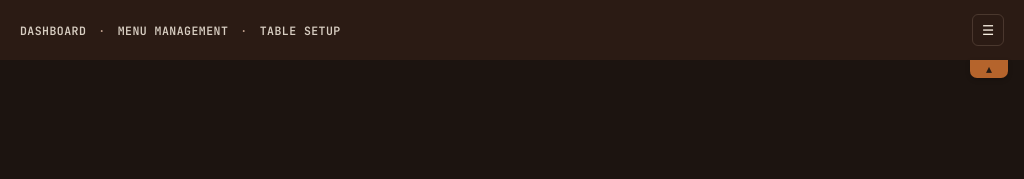
StaffBar menu (hamburger) › closes the menu when the hamburger is clicked again
The image size is (1024, 179).
Click the button named "Show menu": (988, 30) [972,14,1004,46]
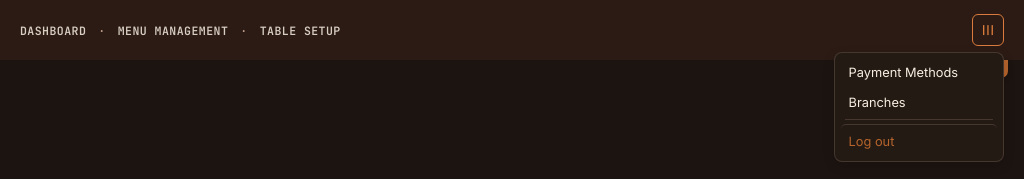
Expected: the menu is shown, [834,52,1004,162]
Click the button named "Hide menu": (988, 30) [972,14,1004,46]
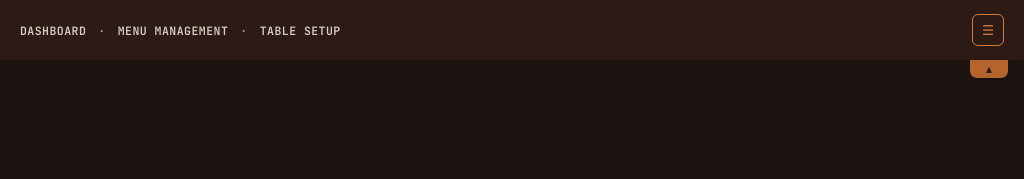
Expected: the menu is gone
